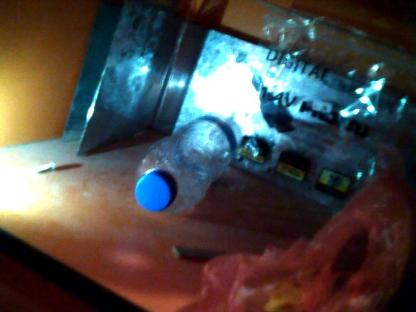Plastic Bottle: (122, 108, 254, 216)
